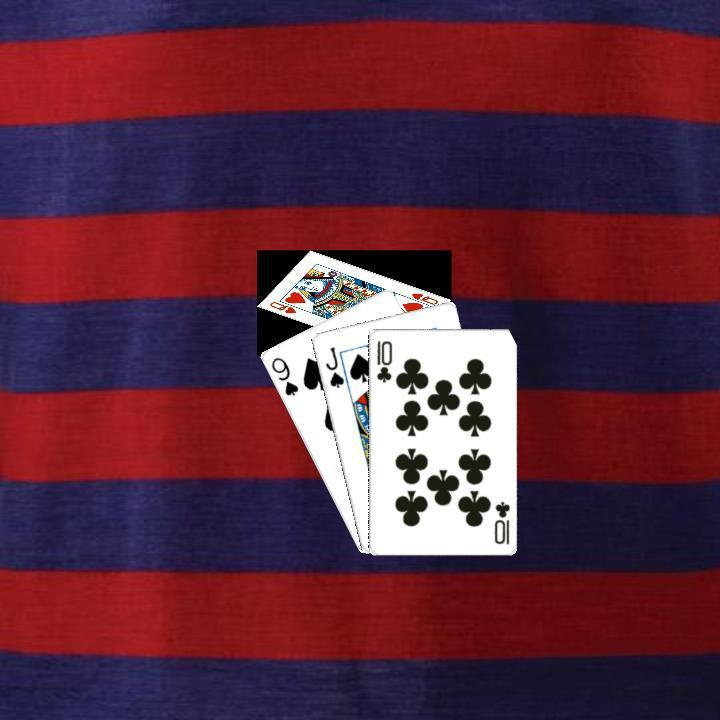10: (489, 497, 512, 546), (372, 336, 393, 384)
9: (266, 353, 300, 398)
J: (321, 342, 346, 390)
